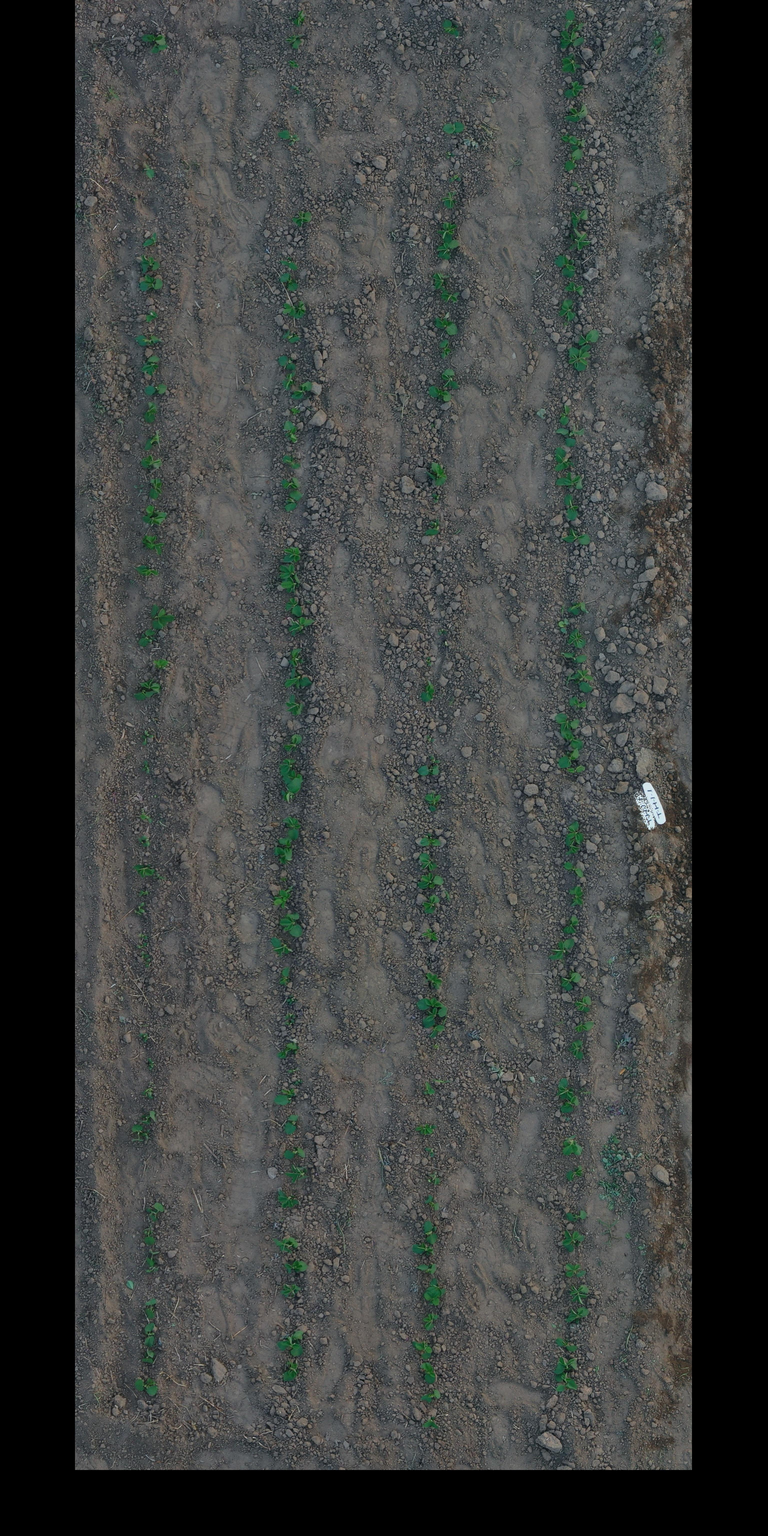s: (555, 423, 586, 448), (276, 1330, 304, 1357), (436, 232, 461, 260), (150, 604, 176, 630), (568, 344, 592, 372), (279, 912, 304, 938), (284, 666, 312, 689), (425, 461, 448, 488), (548, 938, 575, 961), (287, 616, 315, 638), (422, 1007, 450, 1029), (570, 669, 595, 693), (280, 769, 304, 794), (562, 1228, 586, 1252), (560, 528, 591, 546), (568, 228, 592, 251), (560, 727, 584, 750), (555, 471, 584, 490), (554, 446, 575, 472), (142, 505, 168, 526), (564, 148, 586, 172), (270, 936, 294, 958), (554, 712, 580, 732), (284, 1164, 310, 1184), (552, 1356, 579, 1375), (554, 256, 576, 279), (433, 316, 458, 336), (282, 816, 302, 841), (137, 274, 164, 292), (560, 52, 582, 74), (280, 572, 302, 594), (555, 1371, 578, 1392), (564, 103, 588, 123), (134, 1377, 158, 1397), (564, 1306, 590, 1324), (558, 747, 580, 768), (560, 970, 582, 991), (562, 1134, 583, 1156), (290, 380, 313, 400), (277, 1189, 300, 1209), (417, 872, 444, 889), (272, 1237, 299, 1254), (284, 9, 308, 28), (566, 628, 587, 649), (412, 1340, 433, 1361), (441, 367, 460, 390), (285, 693, 304, 716), (560, 30, 584, 48), (558, 298, 576, 322), (564, 494, 580, 521), (566, 820, 584, 844), (276, 1042, 301, 1059), (279, 272, 300, 292), (416, 996, 446, 1010), (570, 1284, 590, 1305), (141, 354, 160, 376), (284, 490, 303, 512), (146, 534, 165, 556), (280, 783, 302, 802), (556, 1078, 575, 1100), (428, 385, 452, 402), (418, 852, 438, 872), (145, 1202, 165, 1222), (437, 222, 459, 240), (563, 81, 585, 99), (578, 328, 600, 346), (133, 333, 163, 346), (422, 1220, 438, 1244), (138, 628, 157, 648), (282, 546, 302, 565), (273, 889, 292, 909), (422, 894, 441, 914), (560, 1095, 580, 1114), (140, 256, 161, 274), (285, 597, 303, 618), (425, 1280, 446, 1298), (291, 211, 313, 228), (424, 790, 441, 812), (419, 1362, 436, 1384), (146, 477, 162, 500), (138, 678, 161, 694), (563, 1262, 586, 1278), (286, 32, 306, 50), (277, 758, 297, 776), (282, 734, 302, 752), (143, 430, 160, 451), (563, 914, 580, 935), (567, 1039, 584, 1060), (423, 1311, 440, 1332), (564, 281, 586, 297), (284, 1114, 300, 1136), (283, 1360, 299, 1382), (284, 1260, 309, 1274), (411, 1242, 436, 1256), (143, 401, 158, 424), (140, 454, 163, 469), (283, 420, 298, 443), (567, 601, 590, 616), (555, 1337, 578, 1352), (442, 19, 460, 38), (273, 847, 293, 864), (564, 861, 584, 878), (141, 33, 167, 46), (442, 121, 466, 135), (132, 864, 156, 878), (568, 886, 584, 907), (422, 1024, 446, 1038), (564, 1209, 588, 1223), (420, 680, 435, 702), (280, 1283, 302, 1298), (571, 210, 589, 228), (432, 272, 450, 290), (566, 1164, 584, 1182), (424, 972, 443, 989), (283, 1146, 306, 1160), (277, 355, 297, 371), (141, 160, 156, 181), (278, 256, 299, 271), (420, 1389, 441, 1404), (144, 383, 168, 396), (438, 338, 452, 360), (143, 1298, 157, 1320), (288, 648, 305, 666), (574, 996, 592, 1013), (442, 190, 458, 209), (282, 454, 301, 470), (565, 836, 580, 856), (561, 652, 588, 663), (142, 1225, 156, 1246), (132, 689, 156, 701), (135, 564, 159, 576), (416, 764, 440, 776), (144, 1322, 155, 1348), (281, 371, 296, 390), (146, 1249, 161, 1268), (564, 9, 577, 30), (439, 290, 460, 303), (574, 1020, 595, 1033), (279, 563, 296, 579), (424, 1194, 440, 1211), (138, 1110, 156, 1125), (568, 696, 587, 710), (559, 404, 571, 426), (416, 1263, 438, 1275), (278, 966, 291, 986), (414, 1123, 434, 1136), (142, 232, 158, 248), (282, 302, 299, 317), (130, 1124, 144, 1142), (422, 1416, 440, 1430), (280, 477, 300, 489), (273, 1094, 293, 1106), (424, 1291, 440, 1306), (141, 1347, 155, 1364), (419, 837, 442, 847), (294, 300, 306, 319), (570, 139, 587, 152), (421, 928, 438, 941), (152, 658, 170, 670), (277, 130, 298, 140), (427, 1171, 441, 1186), (150, 43, 169, 54), (561, 133, 578, 145), (422, 1082, 436, 1096), (145, 310, 159, 323), (278, 836, 293, 848), (424, 525, 440, 536), (288, 332, 301, 344), (285, 994, 298, 1006), (571, 22, 586, 32), (142, 534, 152, 549), (142, 1088, 154, 1100), (281, 329, 294, 340), (283, 1013, 296, 1024), (139, 814, 153, 824), (281, 1088, 296, 1097), (567, 766, 586, 773), (571, 180, 582, 192), (146, 1057, 155, 1071), (289, 136, 301, 146), (142, 759, 150, 774), (140, 1128, 150, 1140), (287, 60, 300, 69), (449, 174, 462, 183), (428, 518, 441, 527), (429, 754, 440, 764), (138, 1033, 149, 1043), (425, 1147, 435, 1158), (445, 151, 456, 160), (431, 493, 440, 504), (289, 86, 301, 94), (140, 734, 148, 746), (137, 902, 145, 914), (426, 734, 436, 743), (138, 890, 149, 898), (137, 932, 148, 940), (136, 942, 148, 949), (287, 1067, 299, 1074), (144, 730, 154, 738), (438, 628, 448, 636), (138, 835, 148, 843), (141, 839, 150, 847), (140, 951, 150, 958), (144, 958, 151, 968), (426, 656, 432, 667), (293, 1079, 304, 1085), (291, 408, 300, 415), (279, 876, 288, 883), (424, 833, 433, 839), (426, 1125, 437, 1129), (429, 883, 436, 889)
